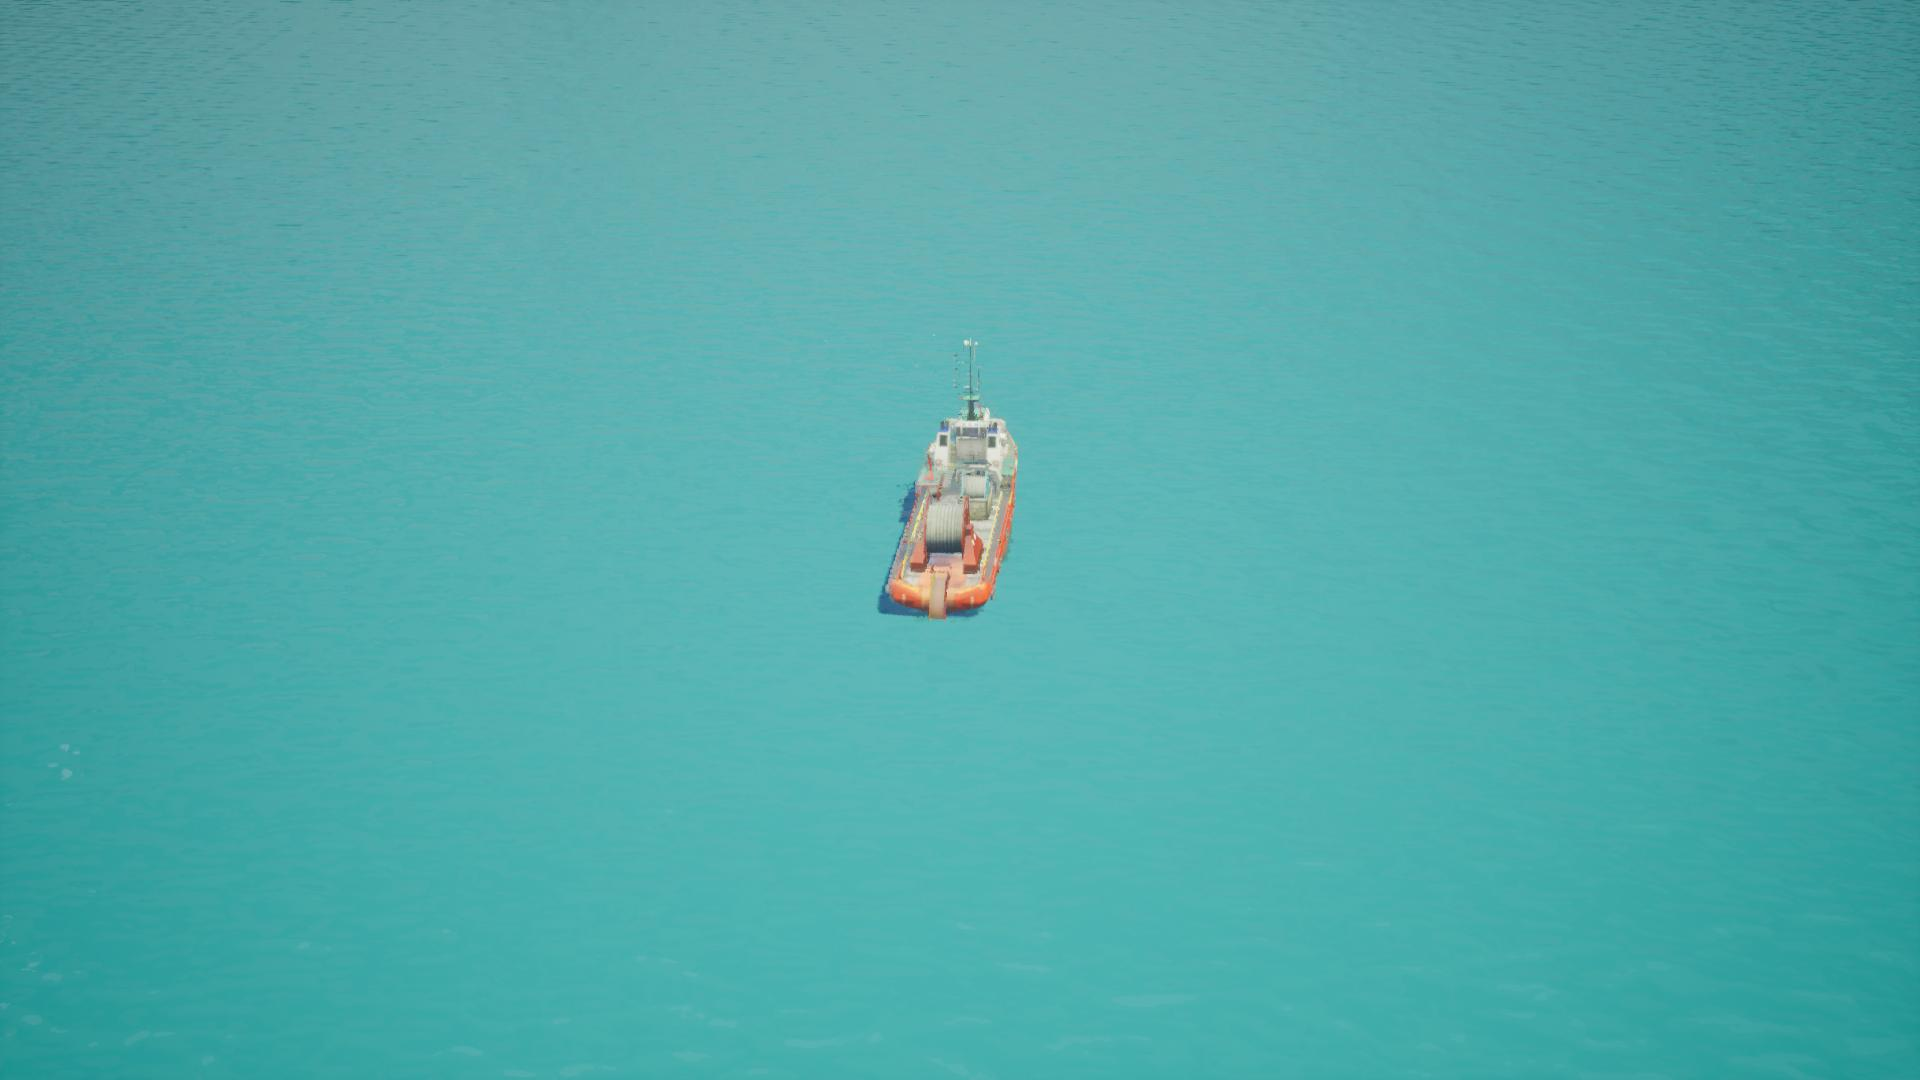Tug Boat: (877, 324, 1030, 616)
